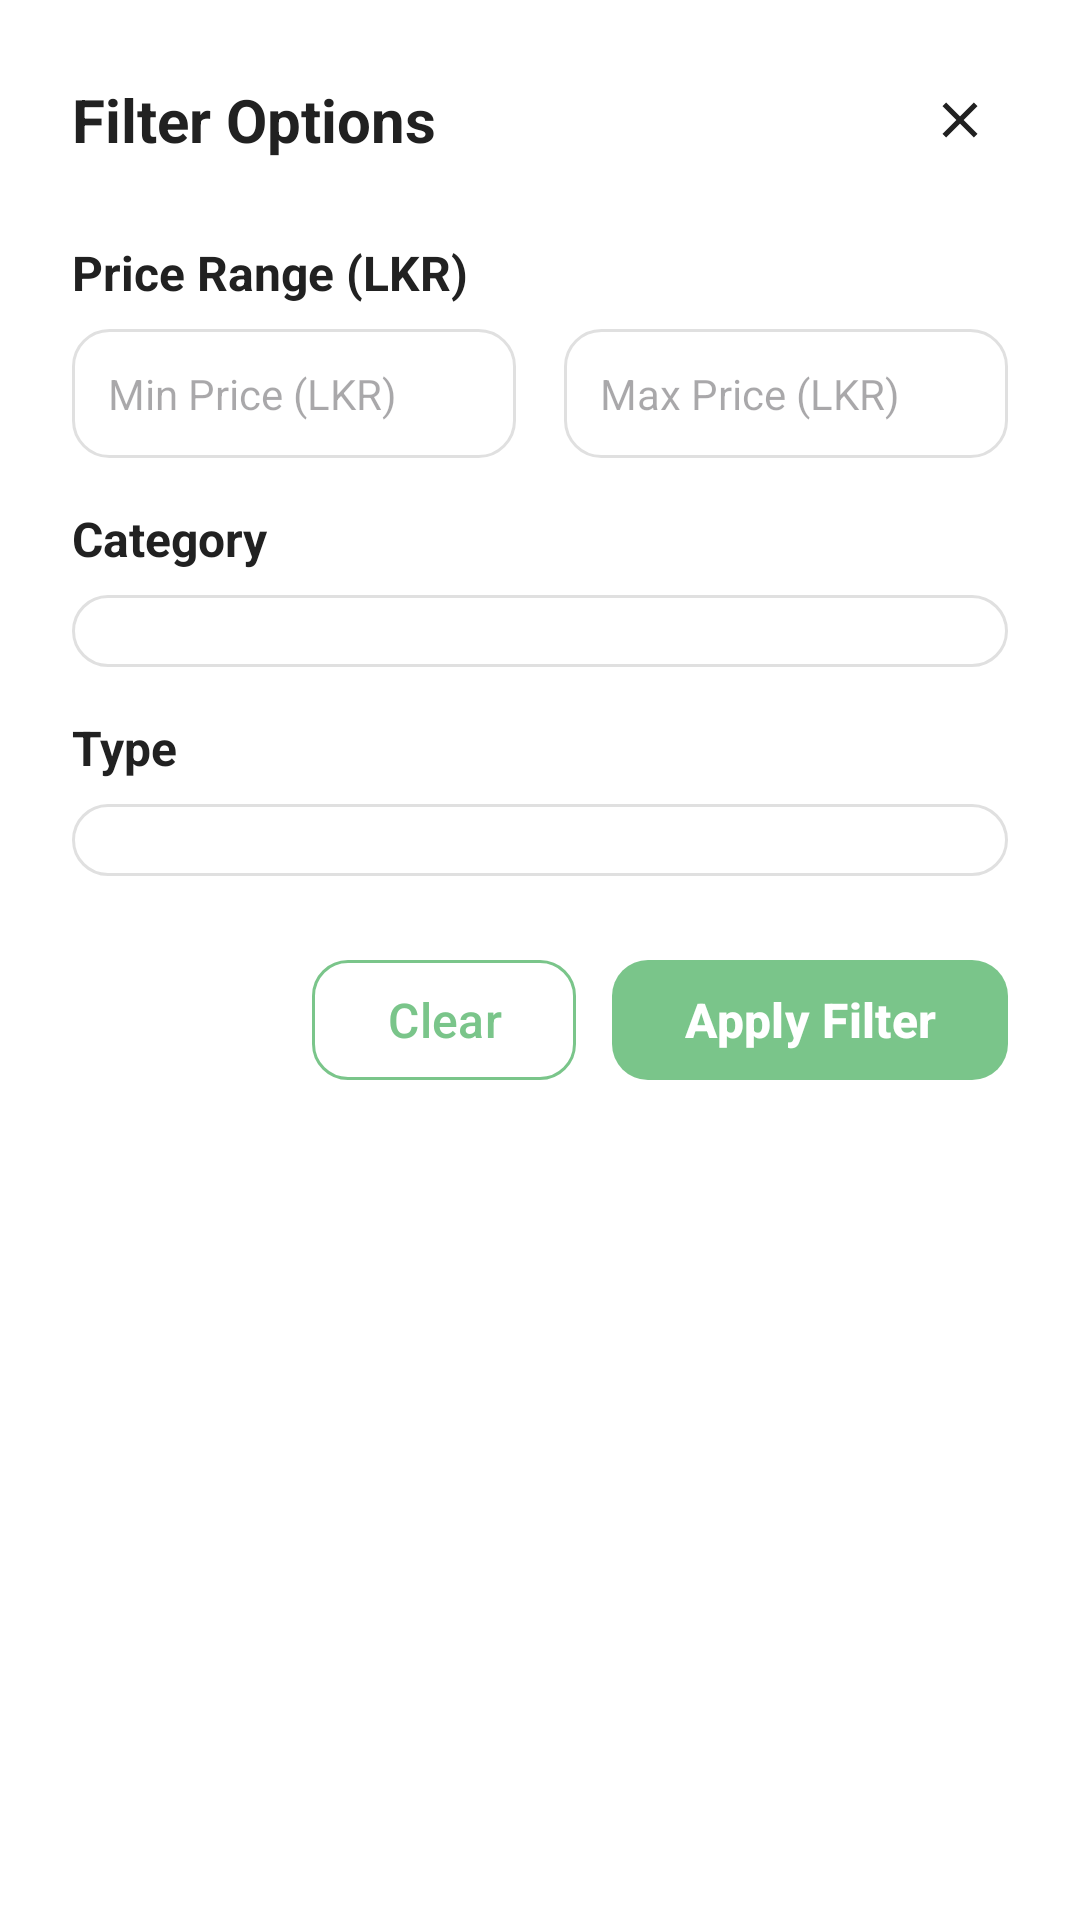

Where icons sit on this 1080w x 1920h app screen, as (x1, y1, x2, y2):
Close: (942, 102, 978, 138)
